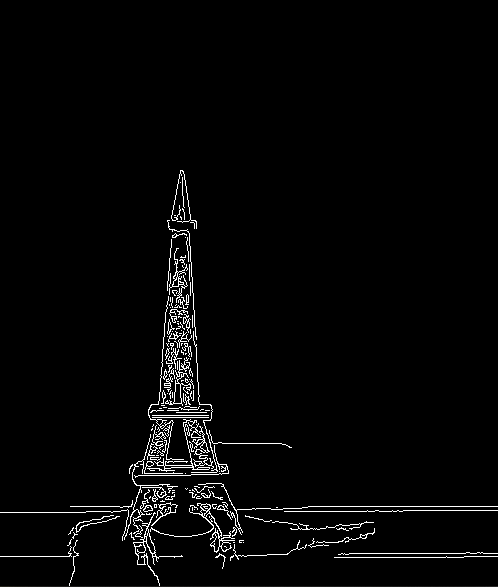eiffel tower: (104, 157, 253, 558)
